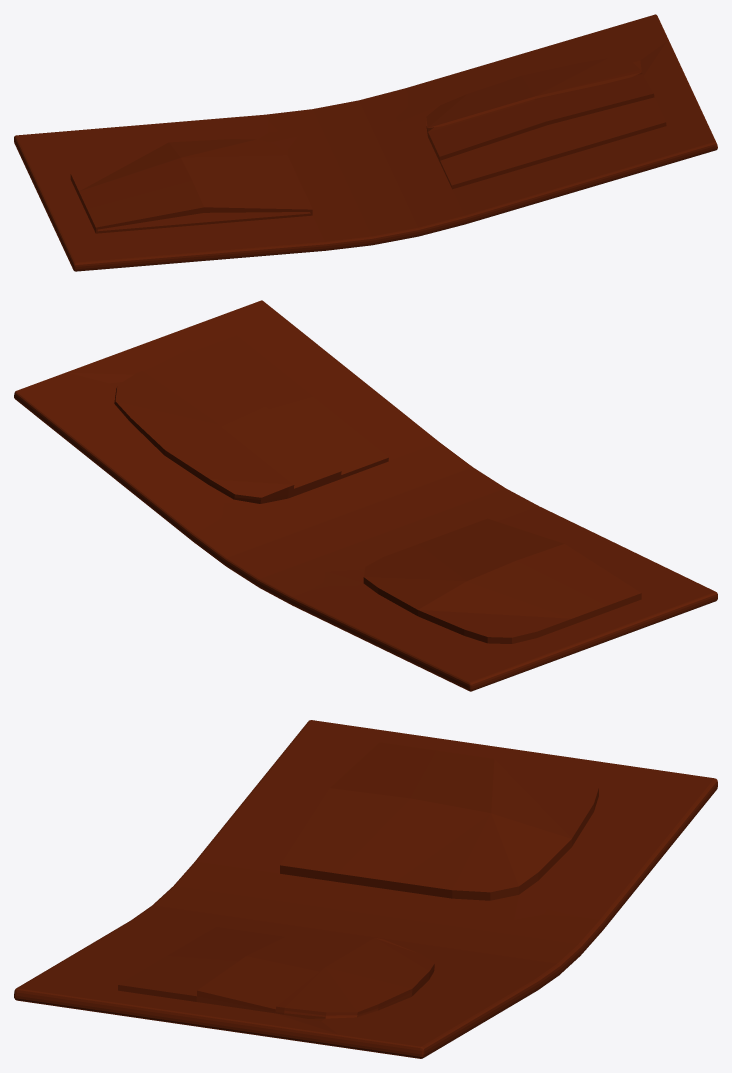
Rendered from Wallet.glb.
The picture shows the model from 3 angles, top to bottom: view 1: azimuth 30°, elevation 25°; view 2: azimuth 150°, elevation 25°; view 3: azimuth 270°, elevation 25°; orthographic projection. The views are drawn at different scales.
Parts seen in each view (by area): view 1: Box001; view 2: Box001; view 3: Box001.
Part boxes in pixels (bbox=[...]): Box001: bbox=[14, 14, 717, 271]; Box001: bbox=[14, 300, 717, 691]; Box001: bbox=[14, 720, 717, 1058].
Bounding box in the file's own units: 584789 × 68561 × 410365.
